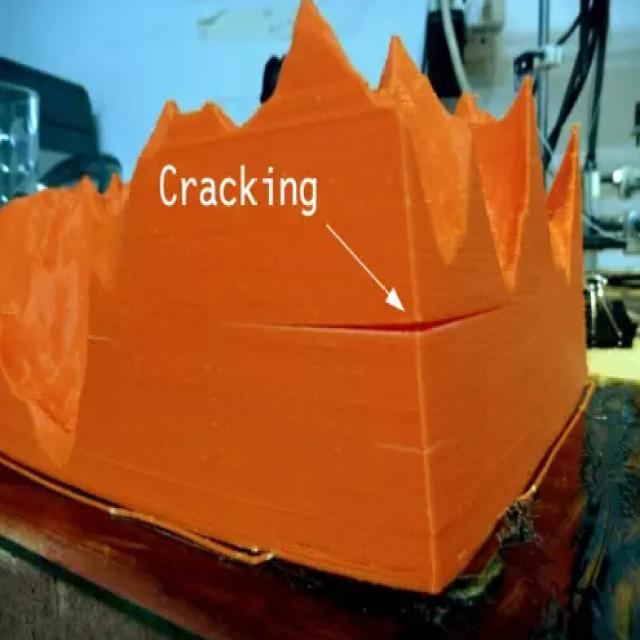cracks: (288, 297, 510, 365), (375, 430, 453, 471)
